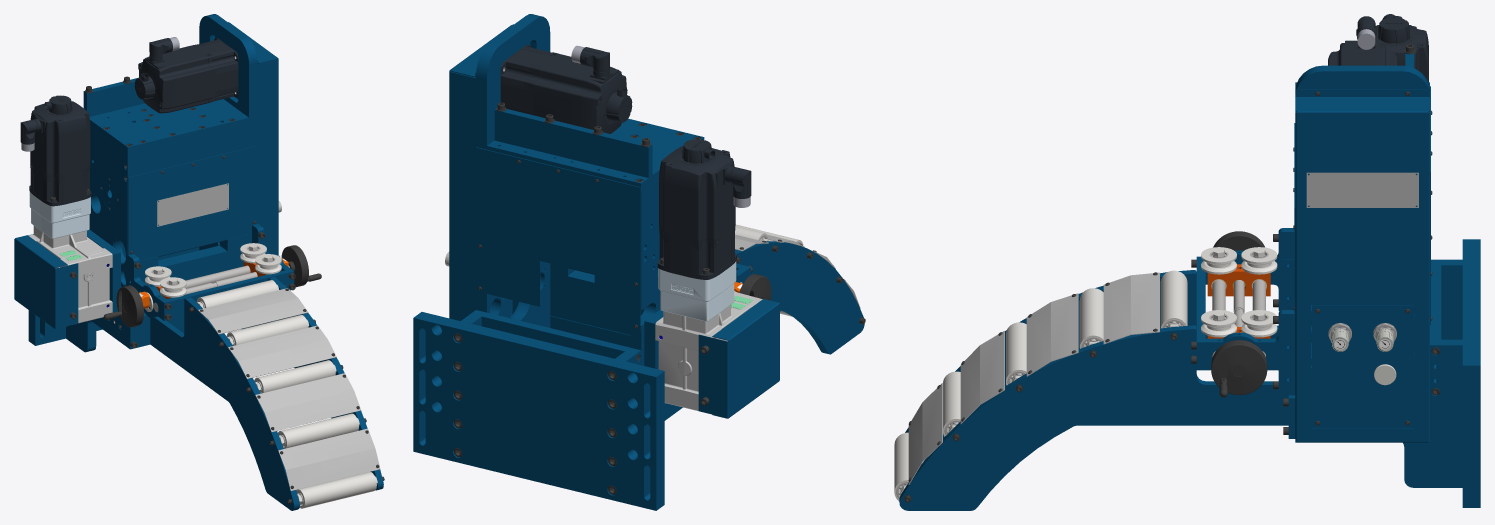
File: panz_opt.glb
3 renders of one model, left to right at view 1: azimuth 30°, elevation 25°; view 2: azimuth 150°, elevation 25°; view 3: azimuth 270°, elevation 25°, orthographic. The views are drawn at different scales.
Visible parts, largest first — view 1: Solido1 (×32), Solido6, Solido2; view 2: Solido1 (×16), Solido6; view 3: Solido1 (×28).
Part boxes in pixels (x1,y1,x2,y2): Solido1 (×32): (14, 14, 383, 510); Solido6: (29, 191, 90, 238); Solido2: (158, 240, 227, 266); Solido1 (×16): (413, 14, 864, 510); Solido6: (658, 261, 736, 321); Solido1 (×28): (894, 14, 1480, 510).
Bounding box in the file's own units: 0.8305 × 1.12 × 1.31.
Materials: 30 (1 with a texture image).
